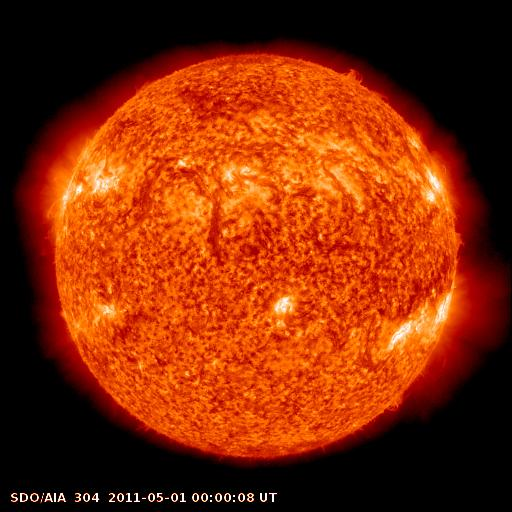prominence: (382, 388, 416, 422), (337, 62, 370, 90), (447, 227, 473, 254)
